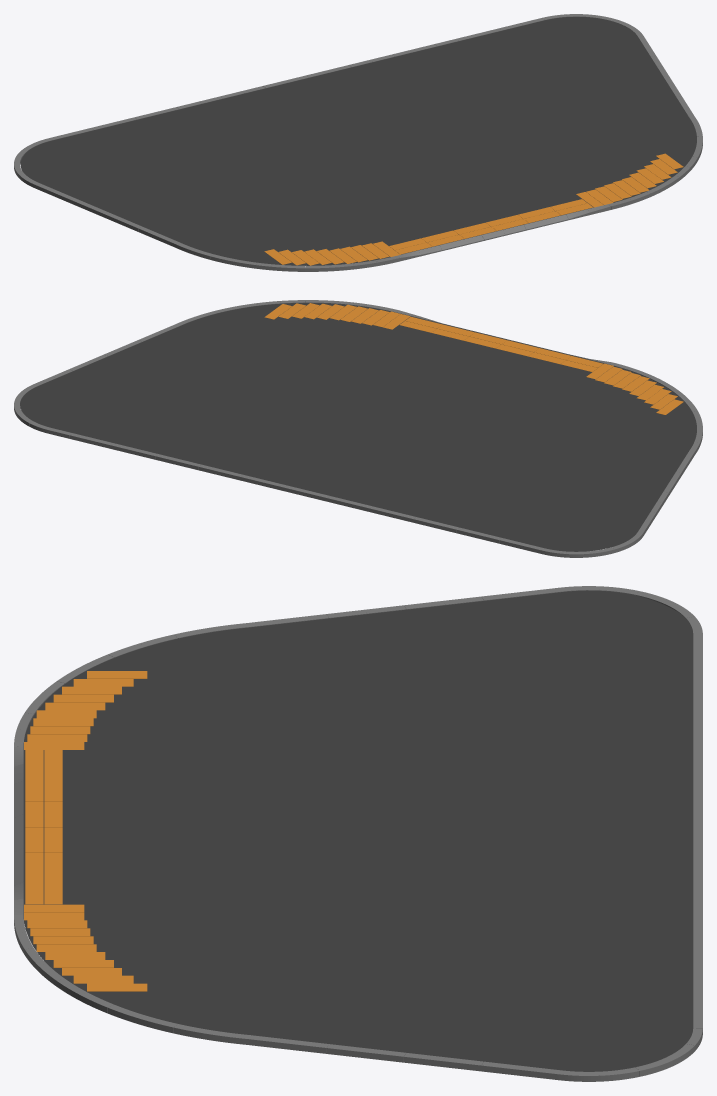
Rendered from SM_street_preset_01.fbx.
3 renders of one model, top to bottom at view 1: azimuth 30°, elevation 25°; view 2: azimuth 150°, elevation 25°; view 3: azimuth 270°, elevation 25°, orthographic. The views are drawn at different scales.
Parts seen in each view (by area): view 1: Plane017; view 2: Plane017; view 3: Plane017.
Boxes of the visible parts, left/top/right/bottom form: Plane017: left=14, top=14, right=702, bottom=271; Plane017: left=14, top=300, right=702, bottom=557; Plane017: left=14, top=586, right=702, bottom=1081.
Size of the model in its own units: 1142 by 6.45 by 679.
